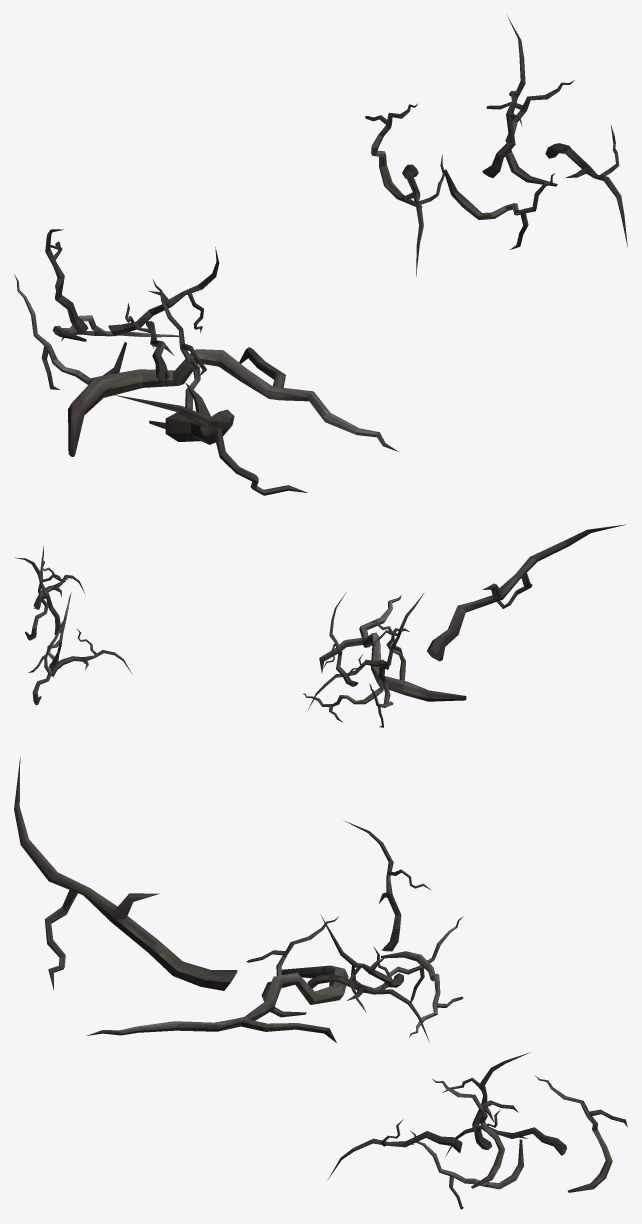
The model's file is Area12_41.fbx.
The picture shows the model from 3 angles, top to bottom: view 1: azimuth 30°, elevation 25°; view 2: azimuth 150°, elevation 25°; view 3: azimuth 270°, elevation 25°; orthographic projection. The views are drawn at different scales.
Visible parts, largest first — view 1: Area12_41; view 2: Area12_41; view 3: Area12_41.
Part boxes in pixels (left/top/right/bottom): Area12_41: left=14, top=16, right=627, bottom=495; Area12_41: left=15, top=524, right=625, bottom=727; Area12_41: left=14, top=757, right=627, bottom=1209.
Size of the model in its own units: 1974 by 531 by 1682.
